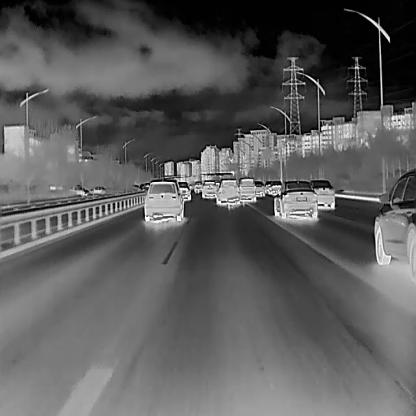car: (372, 168, 415, 280), (142, 179, 183, 222), (273, 179, 317, 219), (308, 177, 334, 211), (216, 178, 239, 206), (237, 176, 256, 202), (175, 179, 190, 200), (201, 179, 217, 198), (68, 183, 89, 196), (268, 179, 283, 196), (89, 184, 107, 194), (253, 180, 264, 196), (192, 180, 203, 192), (142, 180, 150, 192)
